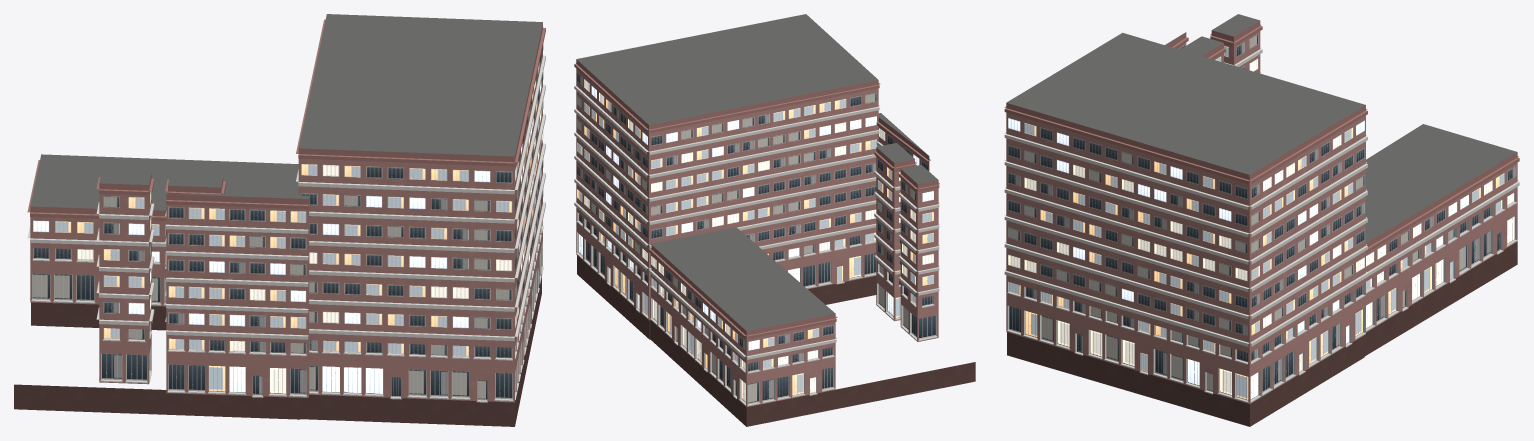
File: sh_schuetze.glb
3 renders of one model, left to right at view 1: azimuth 30°, elevation 25°; view 2: azimuth 150°, elevation 25°; view 3: azimuth 270°, elevation 25°, orthographic. The views are drawn at different scales.
Parts seen in each view (by area): view 1: sh_schuetze; view 2: sh_schuetze; view 3: sh_schuetze.
Part boxes in pixels (box(x1,y1,x2,y2)): sh_schuetze: box(14, 14, 545, 426); sh_schuetze: box(574, 14, 975, 426); sh_schuetze: box(1004, 14, 1519, 426).
Bounding box in the file's own units: 65.52 × 32.74 × 60.61.
3 materials, 3 textured.
